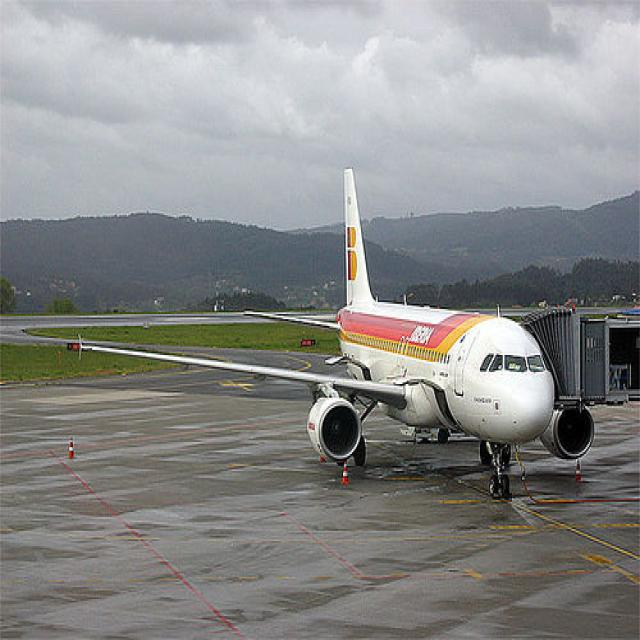aeroplane: (77, 167, 596, 505)
